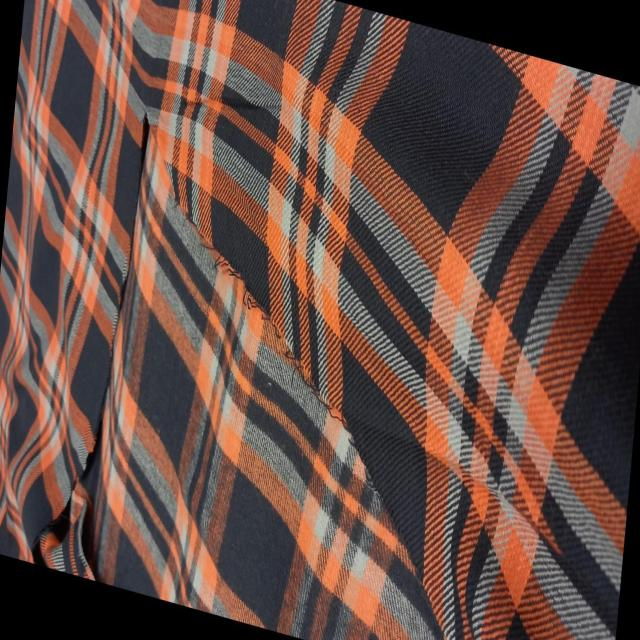cut: (65, 112, 323, 633)
